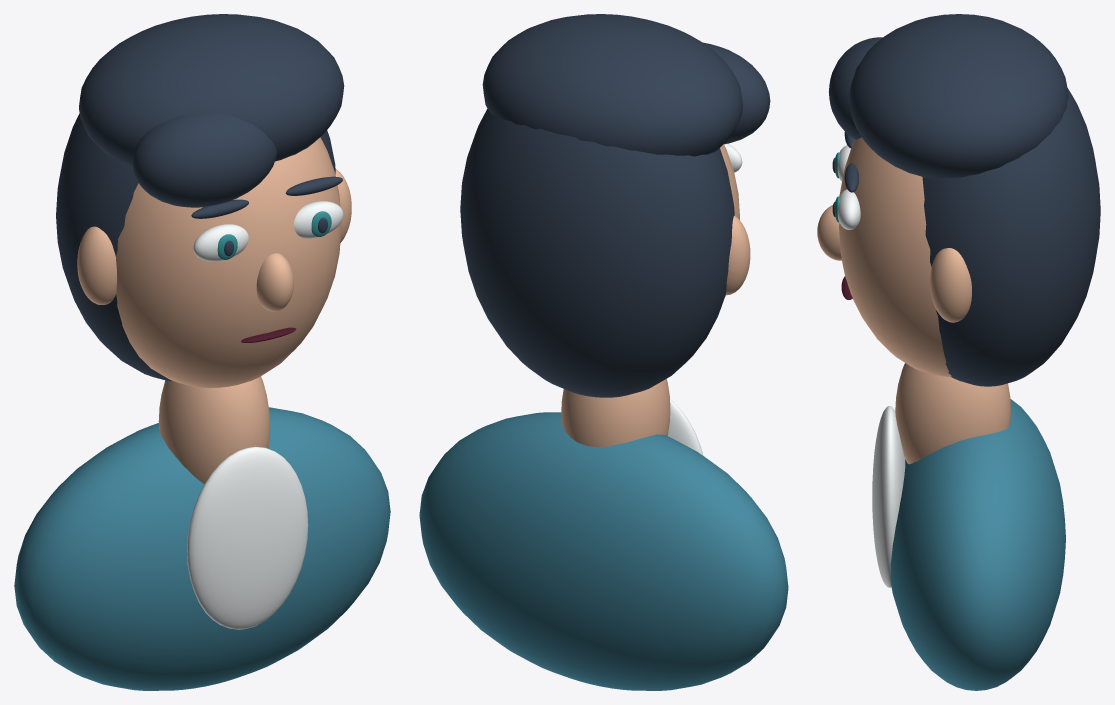
Rendered from prototype-avatar.glb.
3 renders of one model, left to right at view 1: azimuth 30°, elevation 25°; view 2: azimuth 150°, elevation 25°; view 3: azimuth 270°, elevation 25°, orthographic. The views are drawn at different scales.
Visible parts, largest first — view 1: Shoulders, Head, HairTop, Shirt, Fringe, HairBack, Neck, Ear-1, Nose, Eye-1White, Eye1White, Brow1 (+2 smaller); view 2: Shoulders, HairBack, HairTop, Neck, Fringe, Ear-1, Shirt; view 3: Shoulders, HairBack, HairTop, Head, Neck, Shirt, Ear1, Fringe, Nose, Eye1White.
Boxes of the visible parts, box(x1,y1,x2,y2) form: Shoulders: box(14, 407, 390, 690); Head: box(116, 137, 341, 388); HairTop: box(79, 14, 344, 167); Shirt: box(187, 446, 308, 629); Fringe: box(132, 112, 276, 207); HairBack: box(56, 113, 335, 381); Neck: box(158, 376, 270, 484); Ear-1: box(77, 226, 116, 304); Nose: box(256, 253, 293, 311); Eye-1White: box(193, 224, 248, 261); Eye1White: box(294, 201, 343, 238); Brow1: box(285, 176, 342, 195); Shoulders: box(419, 412, 788, 690); HairBack: box(460, 109, 734, 397); HairTop: box(482, 14, 742, 156); Neck: box(561, 379, 670, 447); Fringe: box(703, 42, 770, 144); Ear-1: box(725, 215, 750, 295); Shirt: box(668, 399, 703, 455); Shoulders: box(890, 399, 1065, 690); HairBack: box(922, 88, 1100, 386); HairTop: box(849, 14, 1068, 178); Head: box(839, 137, 951, 376); Neck: box(895, 363, 1010, 464); Shirt: box(872, 406, 905, 587); Ear1: box(930, 248, 971, 322); Fringe: box(829, 37, 882, 139); Nose: box(817, 205, 841, 260); Eye1White: box(837, 189, 860, 229).
Size of the model in its own units: 1.4 by 2.4 by 0.98.
